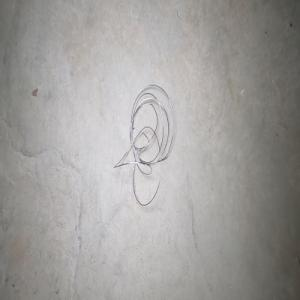Wire: (113, 84, 173, 206)
